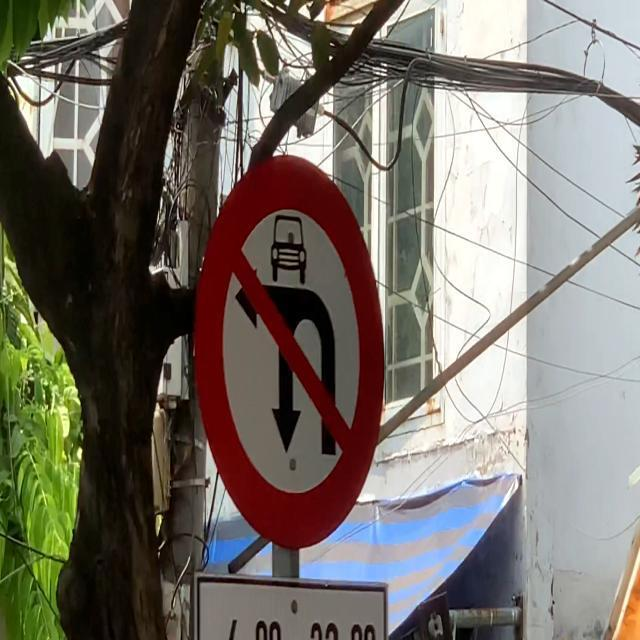124c-cam-re-trai-va-cam-quay-dau-xe: (196, 153, 385, 549)
